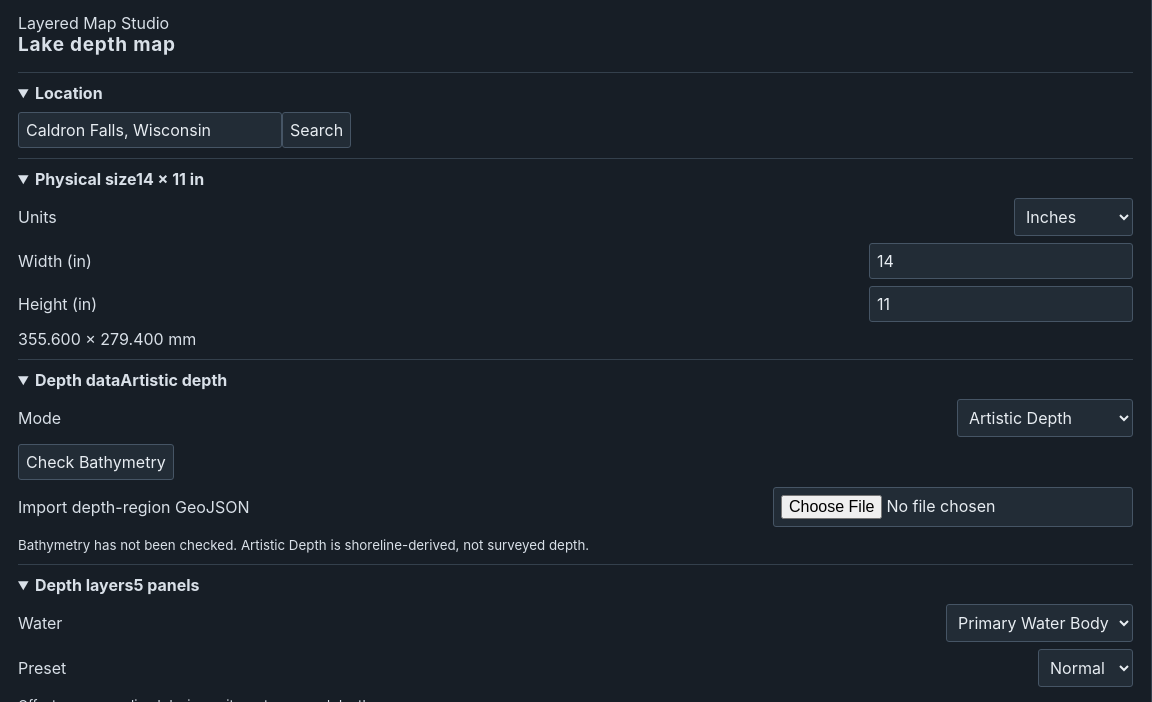
Test: Procedural Terrain controls › hides the terrain controls in the other modes and keeps their values for when it comes back
The width and height of the screenshot is (1152, 702).
Select "Procedural Terrain" in the dropdown labelled "Mode": (1045,418) 957,399 -> 1133,437
(page scrolled)
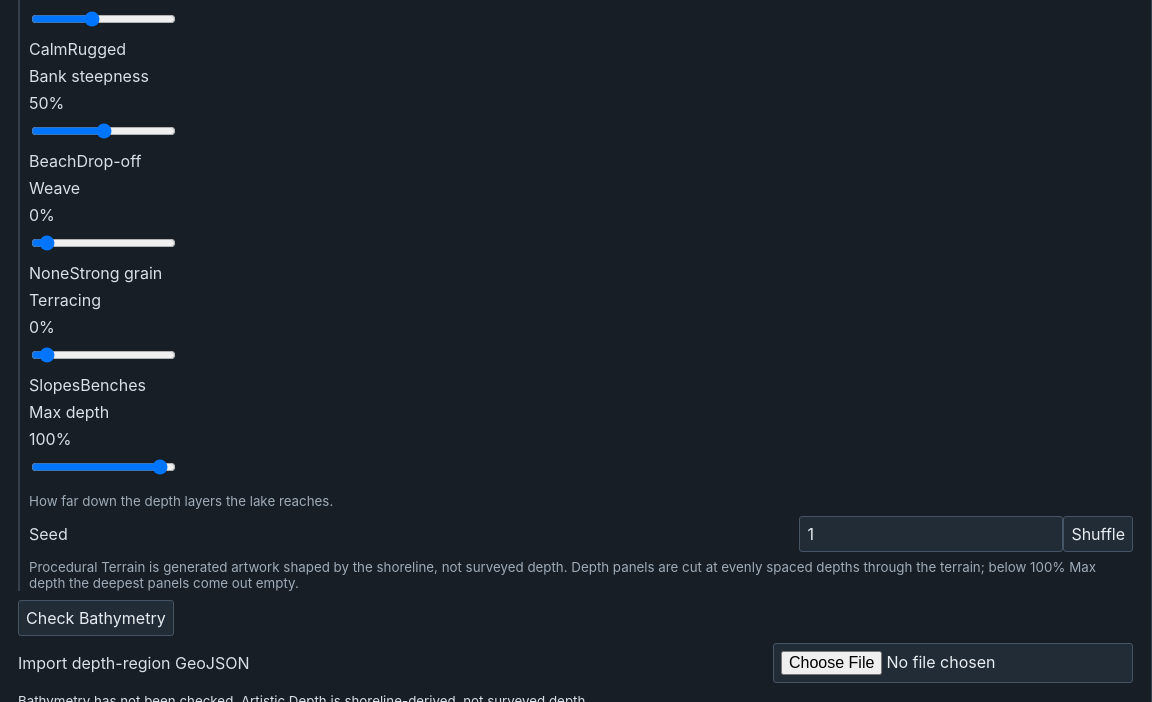
Set the slider labelled "Terracing" to "0.7": (129,355) 31,339 -> 176,371
(page scrolled)
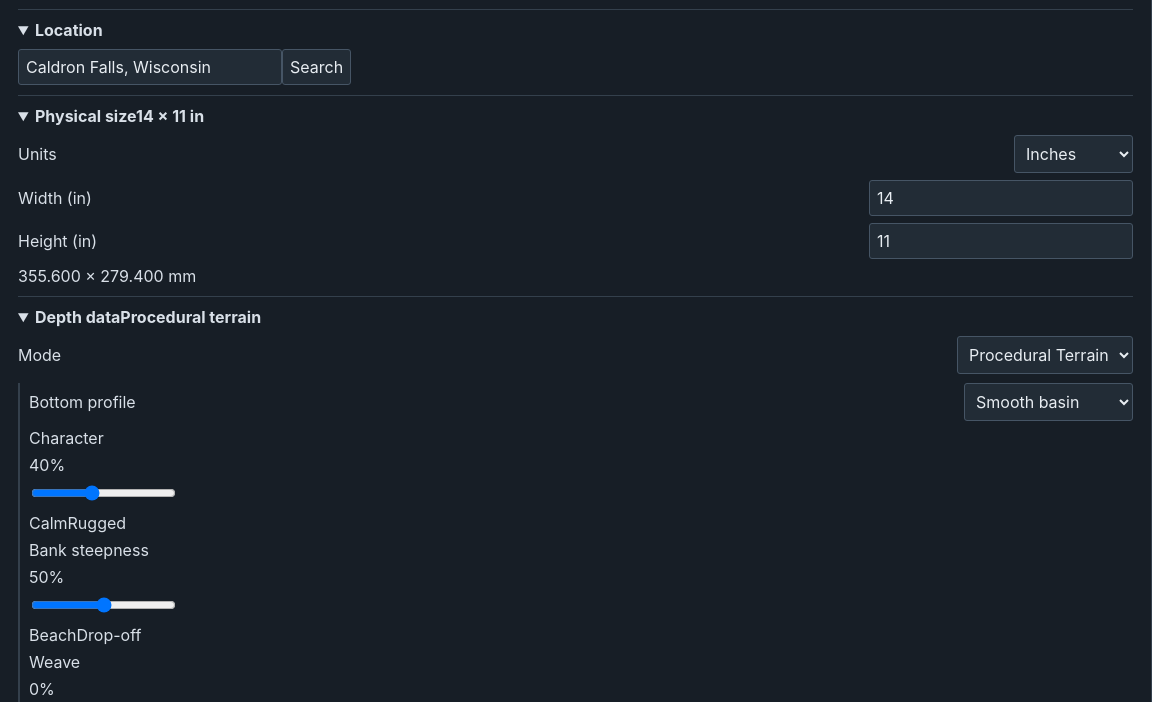
Select "True Bathymetry" in the dropdown labelled "Mode": (1045,355) 957,336 -> 1133,374
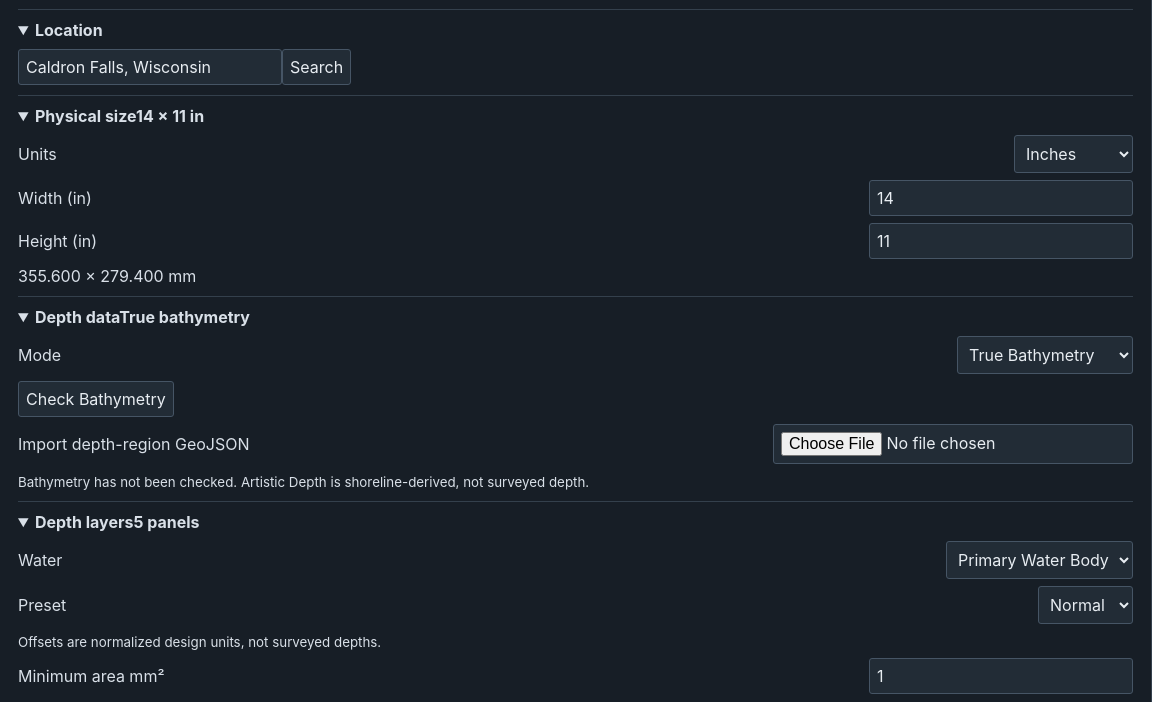
Select "Artistic Depth" in the dropdown labelled "Mode": (1045,355) 957,336 -> 1133,374
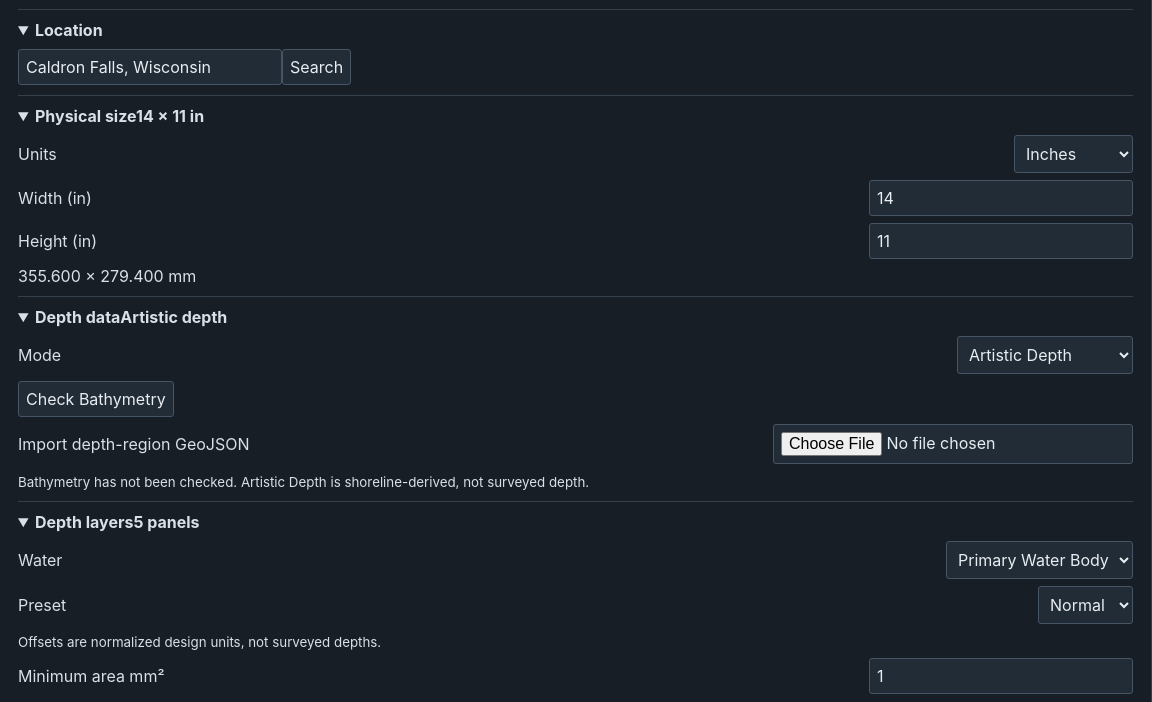
Expected: the field labelled "Terracing" is not shown
Select "Procedural Terrain" in the dropdown labelled "Mode": (1045,355) 957,336 -> 1133,374
(page scrolled)
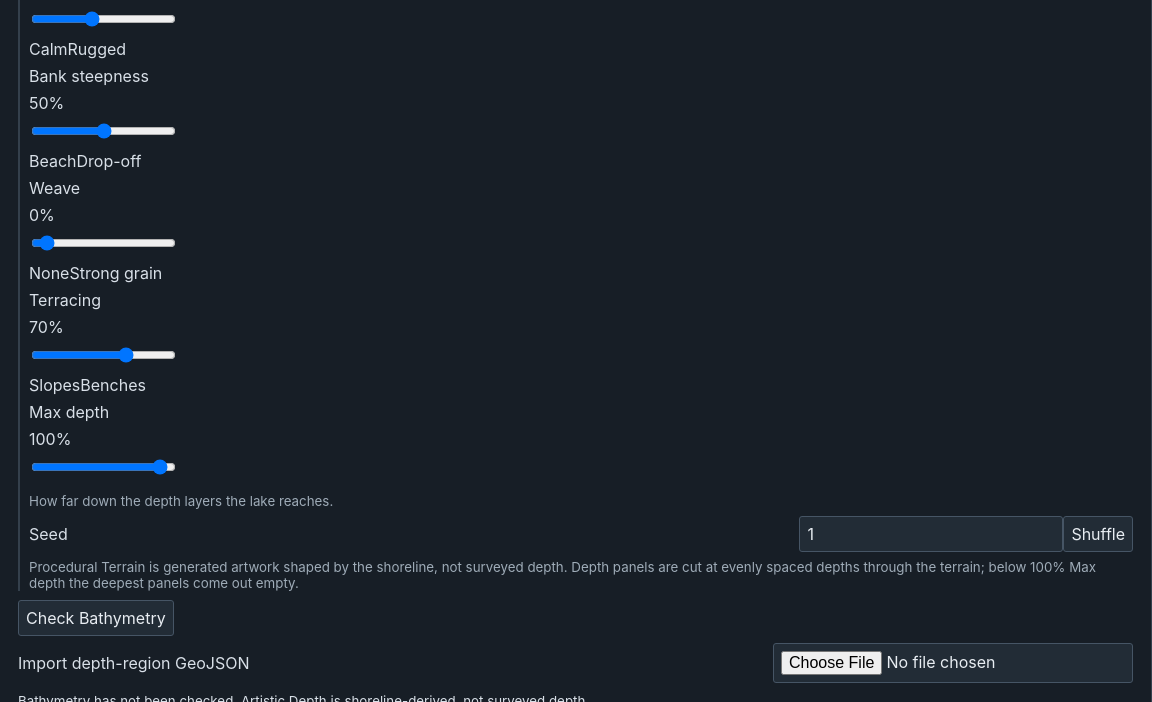
Now the slider labelled "Terracing" holds "0.7", box 31,339 -> 176,371
